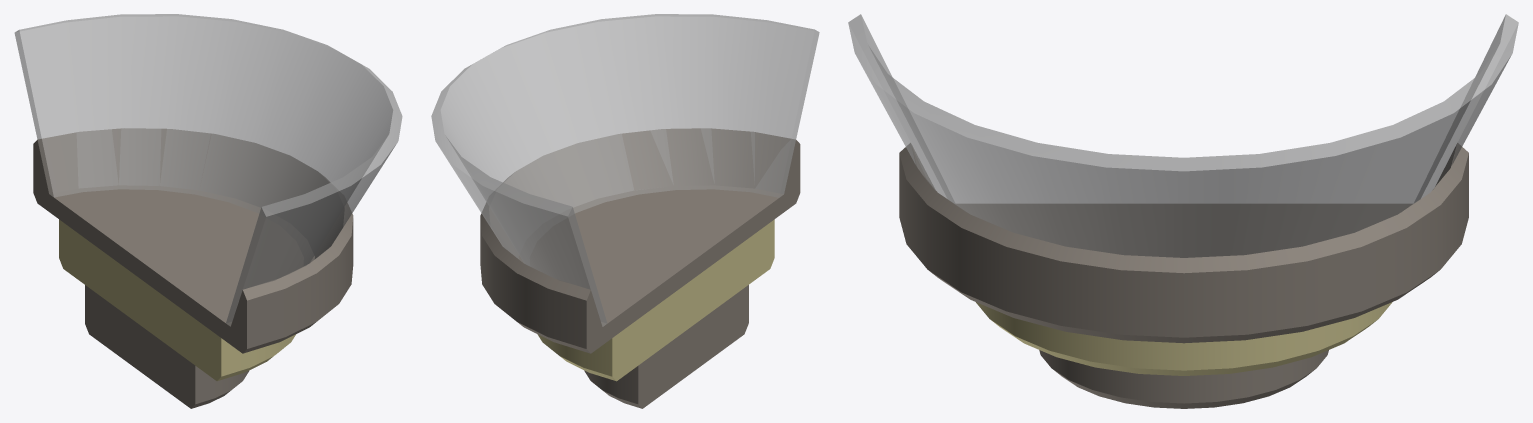
The model's file is lampRoundWall.fbx.
3 renders of one model, left to right at view 1: azimuth 30°, elevation 25°; view 2: azimuth 150°, elevation 25°; view 3: azimuth 270°, elevation 25°, orthographic. The views are drawn at different scales.
Parts seen in each view (by area): view 1: lampRoundWall; view 2: lampRoundWall; view 3: lampRoundWall.
Boxes of the visible parts, x1,y1,x2,y2 form: lampRoundWall: (14,14,402,408); lampRoundWall: (431,14,819,408); lampRoundWall: (848,14,1518,408).
Bounding box in the file's own units: 24.75 × 26.15 × 47.09.
